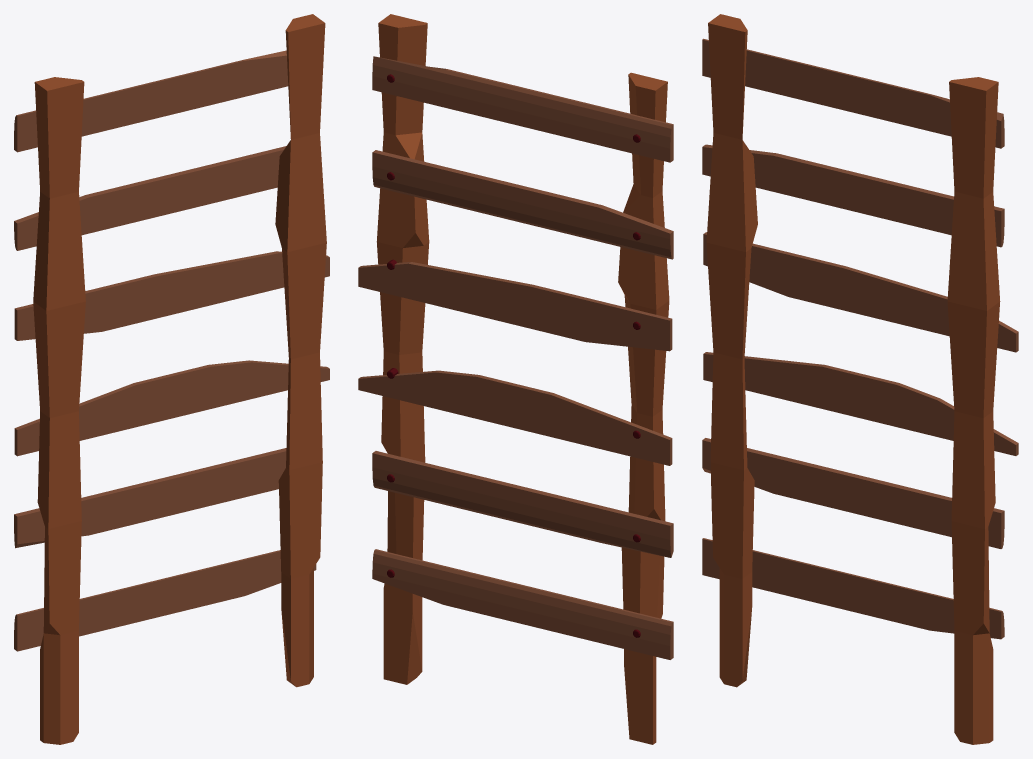
The model's file is ladder_3.fbx.
The picture shows the model from 3 angles, left to right: view 1: azimuth 30°, elevation 25°; view 2: azimuth 150°, elevation 25°; view 3: azimuth 330°, elevation 25°; orthographic projection.
Visible parts, largest first — view 1: Cube, Cube.005, Cube.004, Cube.006, Cube.003, Cube.007, Cube.002; view 2: Cube, Cube.004, Cube.002, Cube.007, Cube.005, Cube.006, Cube.003, Cylinder; view 3: Cube, Cube.005, Cube.004, Cube.006, Cube.007, Cube.003, Cube.002.
Boxes of the visible parts, bbox=[...] form: Cube: bbox=[33, 14, 326, 744]; Cube.005: bbox=[14, 360, 329, 456]; Cube.004: bbox=[14, 251, 329, 340]; Cube.006: bbox=[14, 448, 286, 548]; Cube.003: bbox=[14, 146, 286, 250]; Cube.007: bbox=[14, 550, 316, 651]; Cube.002: bbox=[14, 50, 288, 152]; Cube: bbox=[376, 14, 669, 744]; Cube.004: bbox=[358, 262, 672, 351]; Cube.002: bbox=[372, 56, 673, 162]; Cube.007: bbox=[372, 549, 673, 659]; Cube.005: bbox=[358, 370, 672, 465]; Cube.006: bbox=[372, 451, 673, 557]; Cube.003: bbox=[372, 150, 673, 259]; Cylinder: bbox=[387, 74, 640, 637]; Cube: bbox=[706, 14, 1000, 744]; Cube.005: bbox=[703, 352, 1018, 455]; Cube.004: bbox=[703, 232, 1018, 352]; Cube.006: bbox=[702, 438, 1004, 548]; Cube.007: bbox=[702, 538, 1004, 639]; Cube.003: bbox=[702, 144, 1004, 247]; Cube.002: bbox=[702, 38, 1004, 148].
Size of the model in its own units: 464 by 932 by 42.59.
